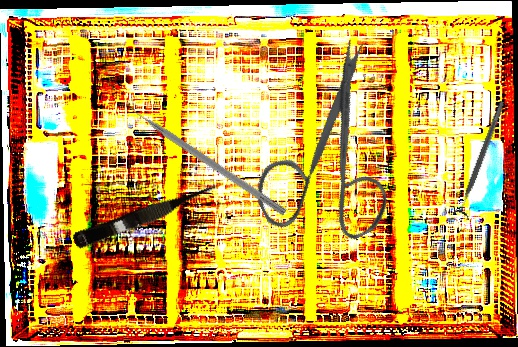Chopper: (123, 93, 293, 217)
Fixation Ring: (451, 98, 512, 221)
Iris Scissors: (211, 34, 438, 271)
Micro Scissor: (71, 177, 226, 253)
